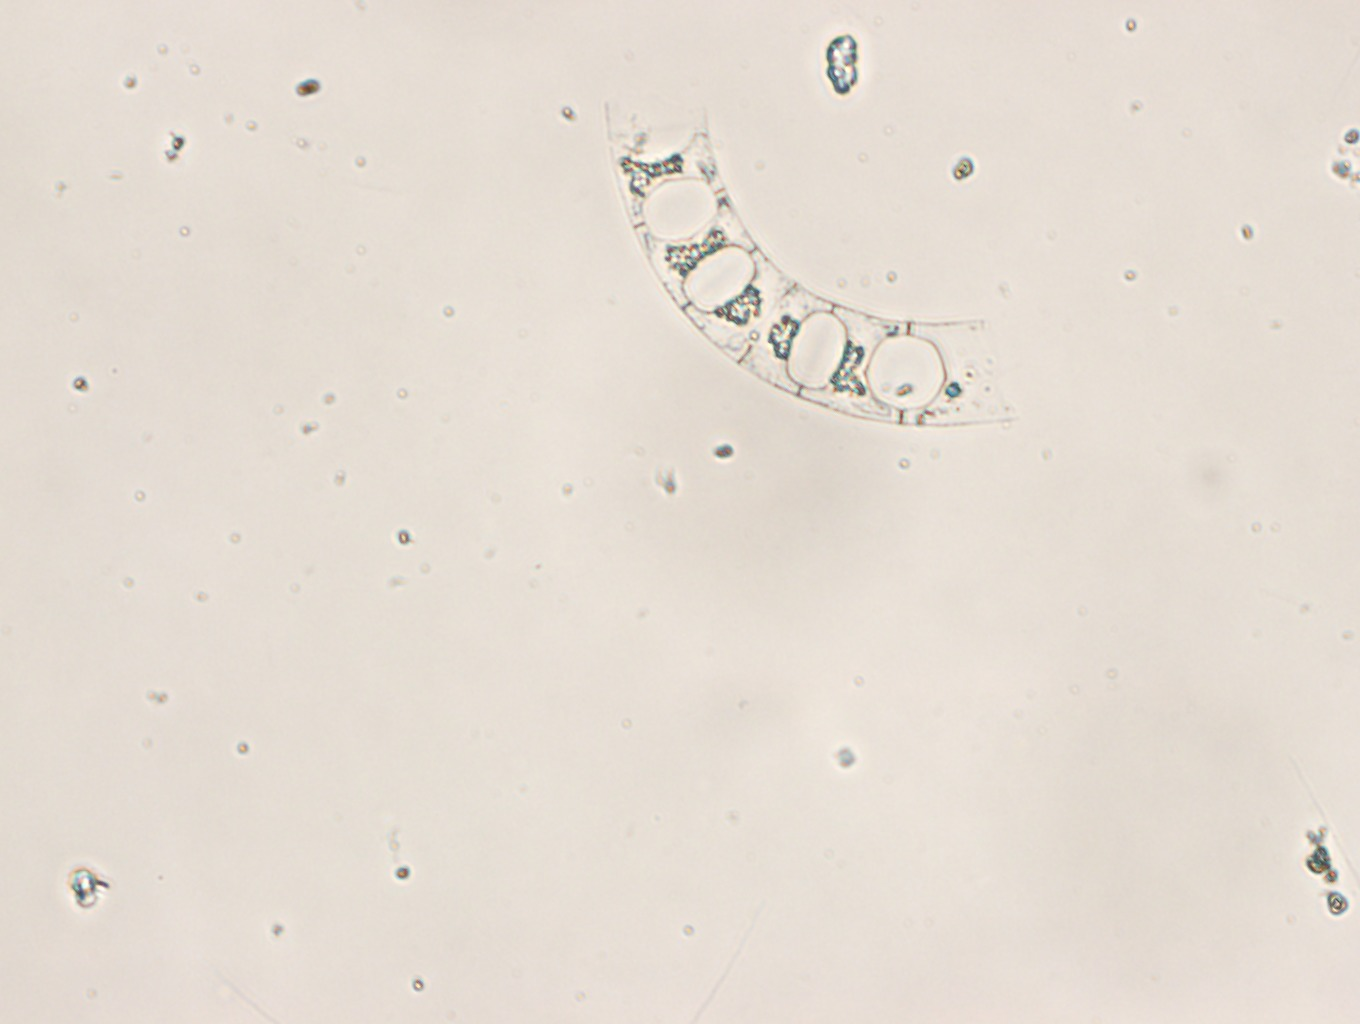eucampia: (606, 101, 1021, 424)
